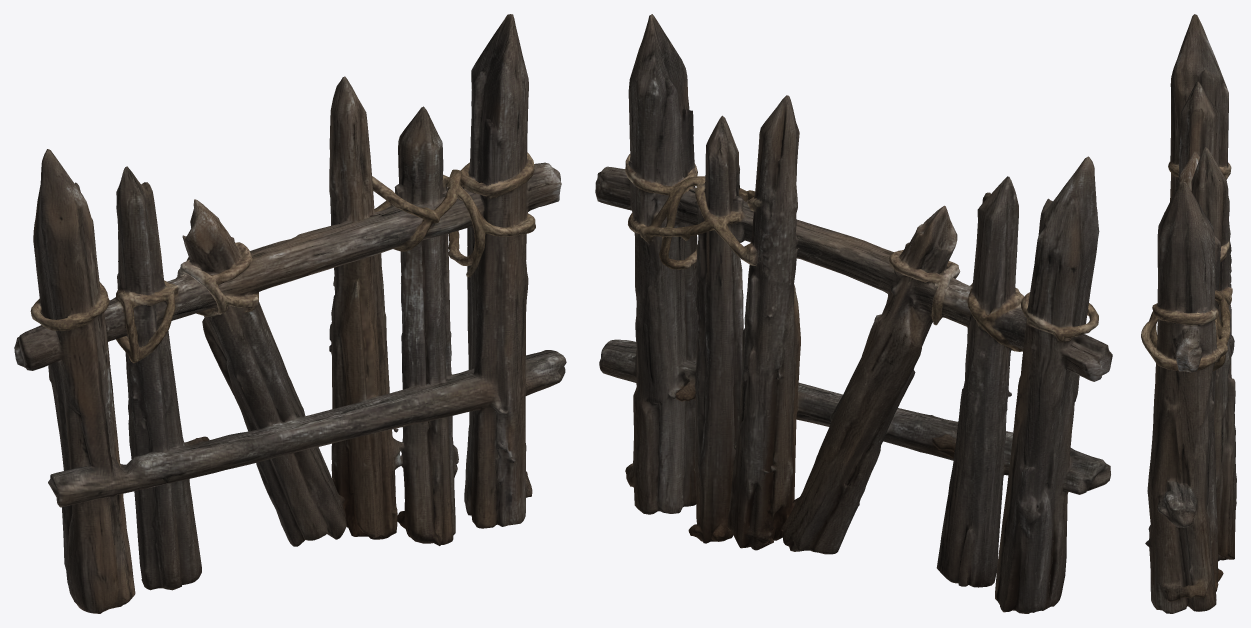
Rendered from prop_fence.glb.
3 renders of one model, left to right at view 1: azimuth 30°, elevation 25°; view 2: azimuth 150°, elevation 25°; view 3: azimuth 270°, elevation 25°, orthographic. The views are drawn at different scales.
Size of the model in its own units: 0.9987 by 0.9155 by 0.1796.
Materials: 1 (1 with a texture image).
